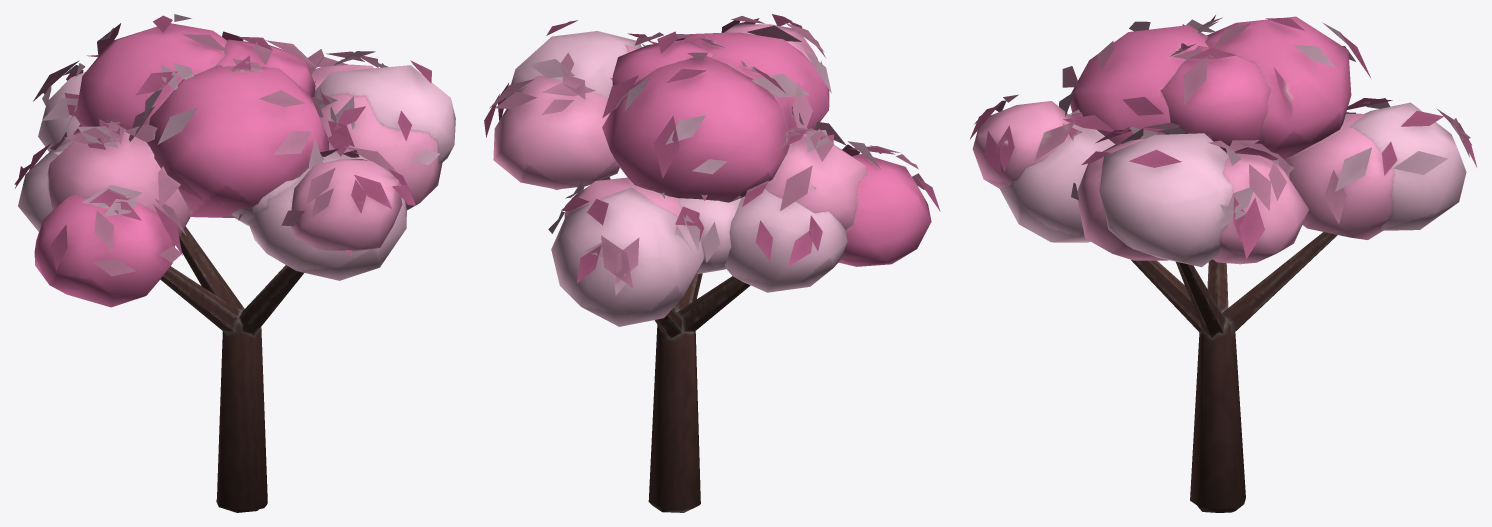
The model's file is cb_cherry_tree_a.glb.
The picture shows the model from 3 angles, left to right: view 1: azimuth 30°, elevation 25°; view 2: azimuth 150°, elevation 25°; view 3: azimuth 270°, elevation 25°; orthographic projection.
Visible parts, largest first — view 1: cb_cherry_tree_a; view 2: cb_cherry_tree_a; view 3: cb_cherry_tree_a.
Part boxes in pixels (x1,y1,x2,y2): cb_cherry_tree_a: (14, 14, 455, 512); cb_cherry_tree_a: (484, 14, 940, 512); cb_cherry_tree_a: (970, 15, 1477, 512).
Size of the model in its own units: 6.79 by 7.5 by 7.46.
Materials: 4 (4 with a texture image).
